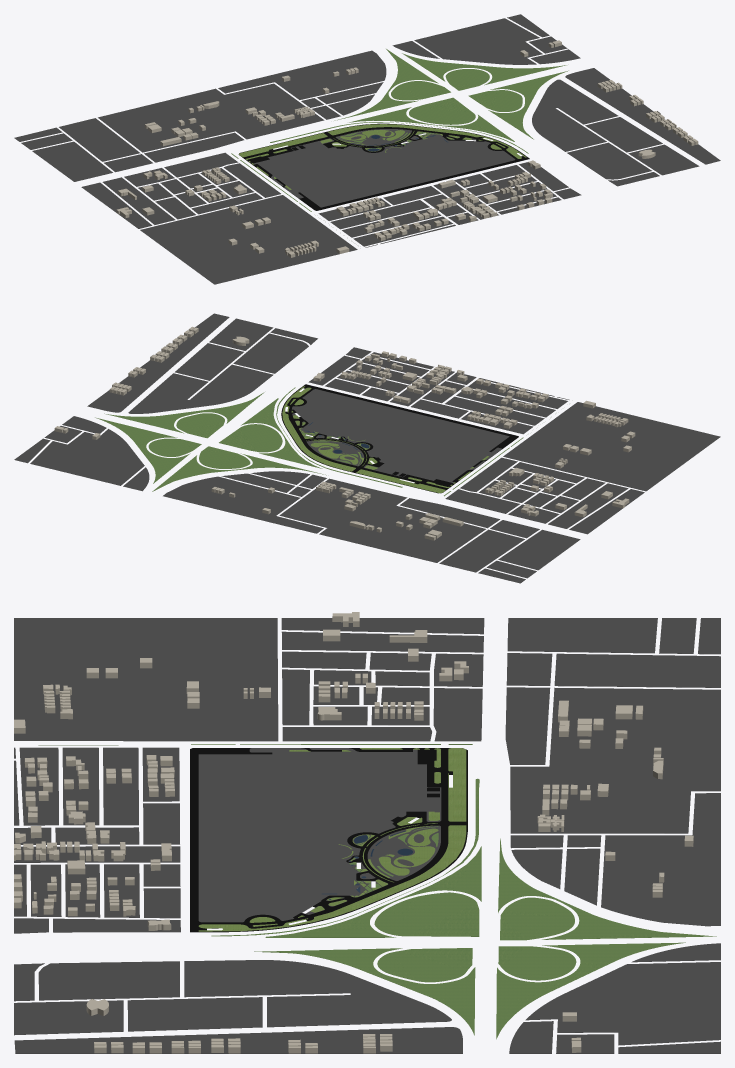
Rendered from site.FBX.
The picture shows the model from 3 angles, top to bottom: view 1: azimuth 30°, elevation 25°; view 2: azimuth 150°, elevation 25°; view 3: azimuth 270°, elevation 25°; orthographic projection. The views are drawn at different scales.
Parts seen in each view (by area): view 1: ste pavement, site grass2, site context, site roads, site grass1; view 2: ste pavement, site grass2, site context, site roads, site grass1; view 3: ste pavement, site grass2, site context, site roads, site grass1.
Boxes of the visible parts, left/top/right/bottom form: ste pavement: left=14, top=14, right=720, bottom=284; site grass2: left=231, top=49, right=568, bottom=211; site context: left=116, top=40, right=698, bottom=257; site roads: left=238, top=123, right=529, bottom=210; site grass1: left=239, top=124, right=526, bottom=189; ste pavement: left=14, top=313, right=720, bottom=583; site grass2: left=95, top=387, right=523, bottom=496; site context: left=54, top=326, right=635, bottom=540; site roads: left=281, top=384, right=518, bottom=493; site grass1: left=282, top=386, right=488, bottom=493; ste pavement: left=14, top=618, right=720, bottom=1053; site grass2: left=38, top=744, right=716, bottom=1039; site context: left=14, top=612, right=693, bottom=1053; site roads: left=190, top=748, right=467, bottom=932; site grass1: left=198, top=748, right=466, bottom=931.
Size of the model in its own units: 1969 by 12.4 by 1349.
